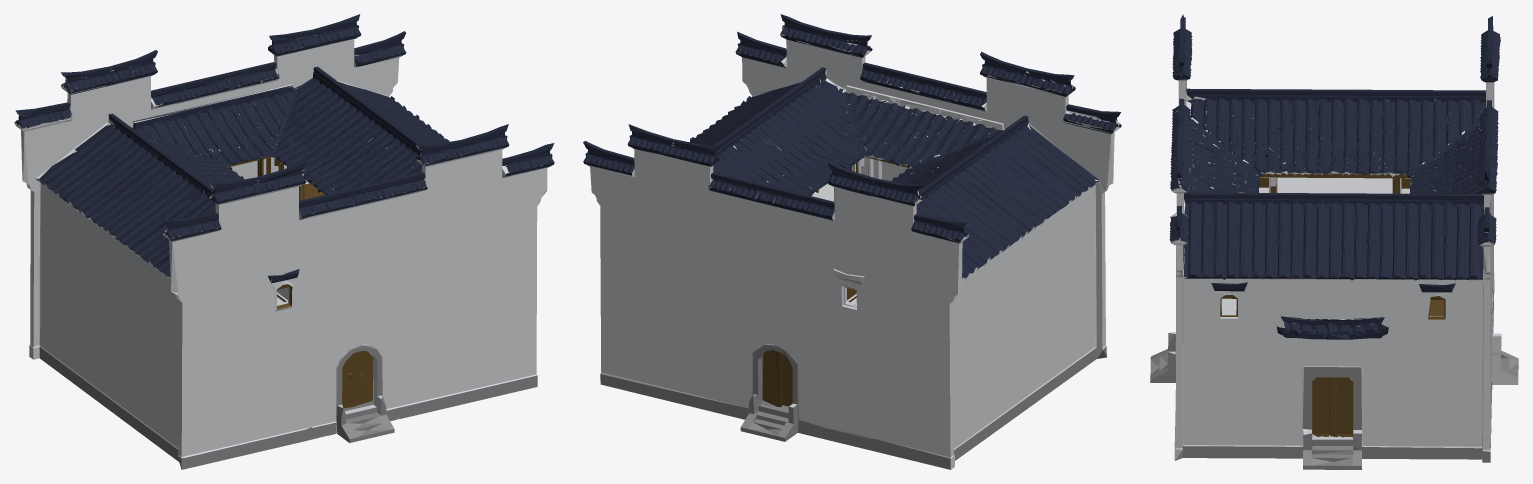
The model's file is tianjing.glb.
The picture shows the model from 3 angles, left to right: view 1: azimuth 30°, elevation 25°; view 2: azimuth 150°, elevation 25°; view 3: azimuth 270°, elevation 25°; orthographic projection. The views are drawn at different scales.
Parts seen in each view (by area): view 1: PM3D_天井; view 2: PM3D_天井; view 3: PM3D_天井.
Part boxes in pixels (<box>): PM3D_天井: <box>14,14,554,469</box>; PM3D_天井: <box>583,14,1121,469</box>; PM3D_天井: <box>1150,14,1518,469</box>.
Bounding box in the file's own units: 541942 × 371087 × 432837.
